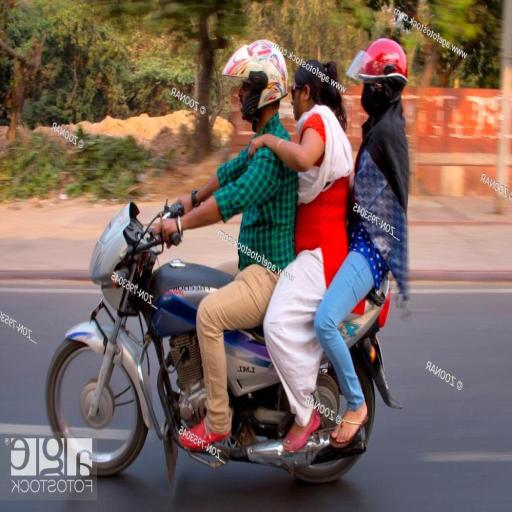helmet: (220, 37, 290, 123)
overloading: (44, 197, 404, 486)
